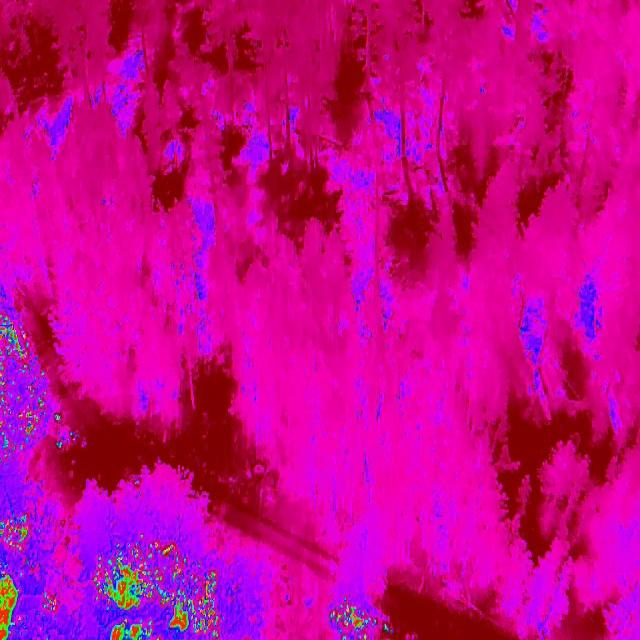fire: (94, 535, 226, 640), (0, 304, 53, 457), (0, 505, 36, 640), (323, 594, 398, 640), (52, 407, 74, 455), (40, 587, 60, 622)
